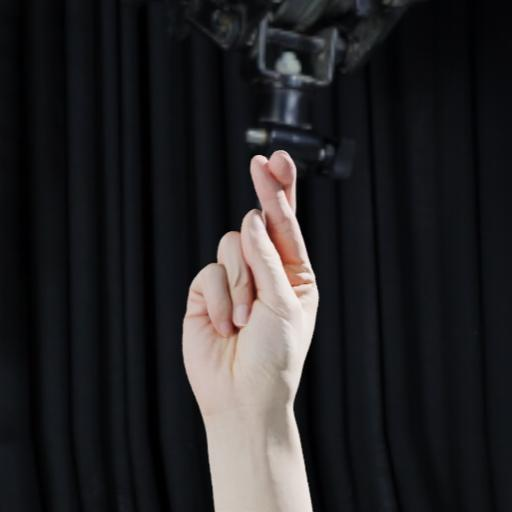R: (164, 143, 340, 440)
